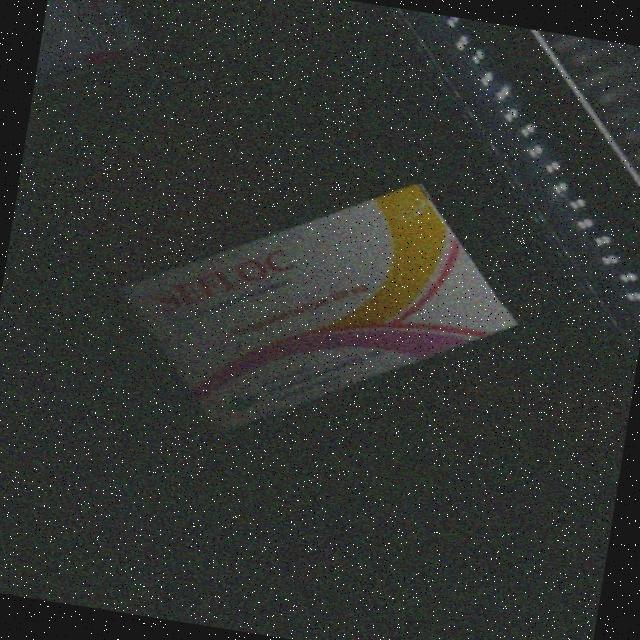medicine_name_detection: (107, 143, 537, 473)
